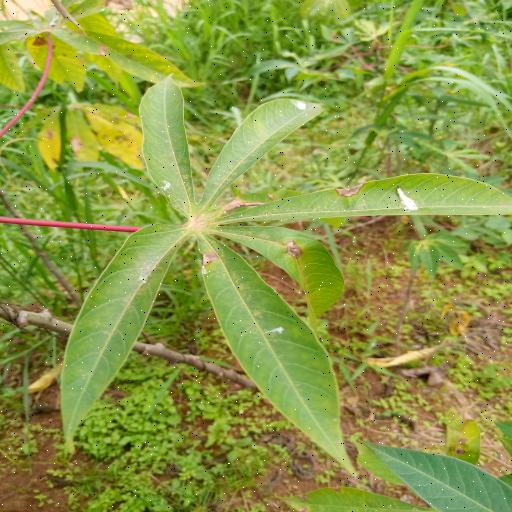Cassava_Brown_Leaf_Spot: (58, 72, 512, 479)
